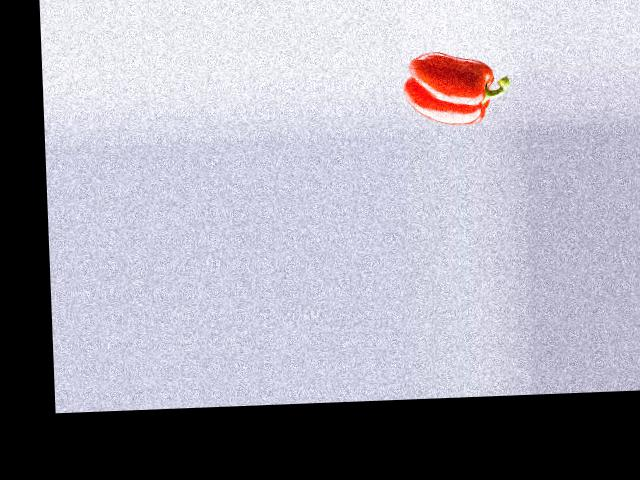bell_pepper: (405, 48, 512, 130)
